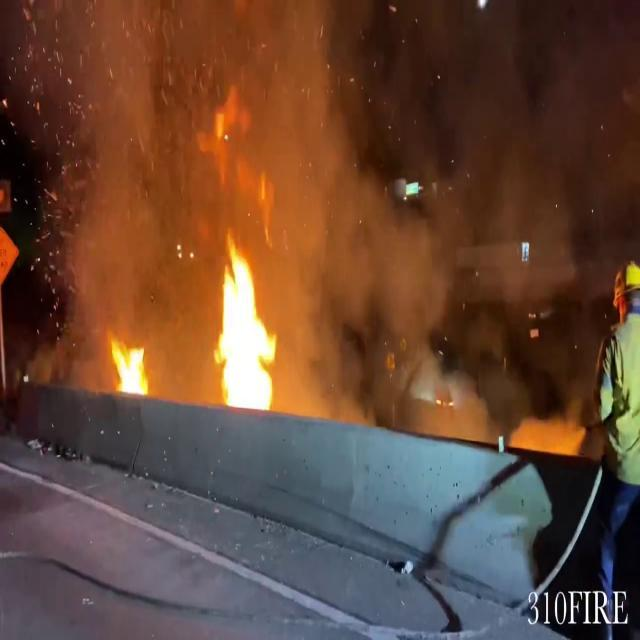Fire: (205, 235, 291, 409), (106, 330, 154, 397)
Smoke: (257, 0, 640, 339), (38, 0, 285, 325)
